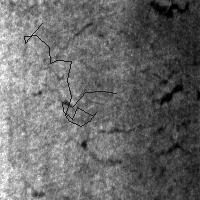crazing: (24, 23, 116, 126), (78, 121, 194, 167)
